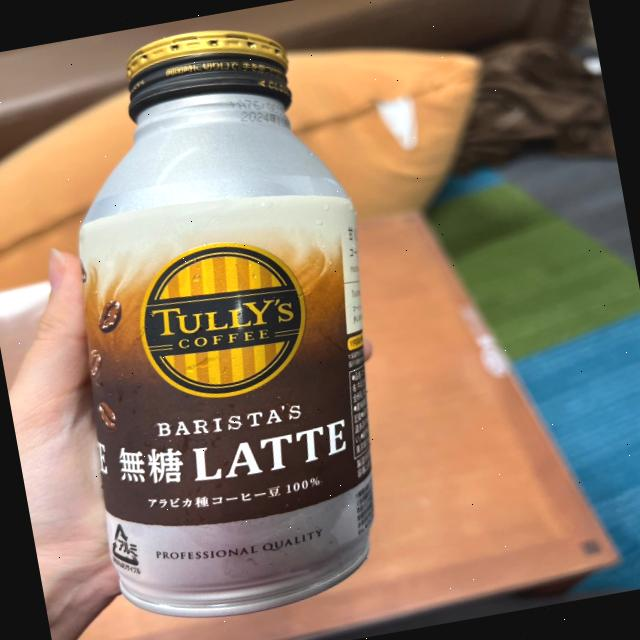coffee-latte: (19, 7, 413, 631)
